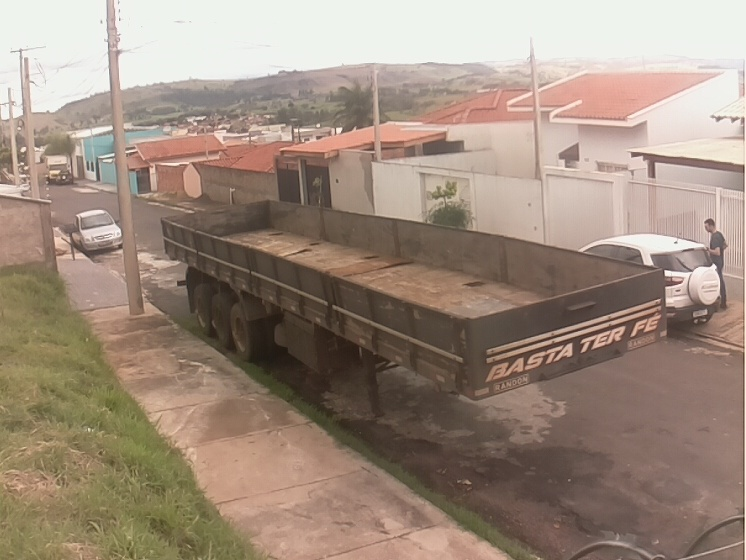person: (700, 216, 732, 313)
